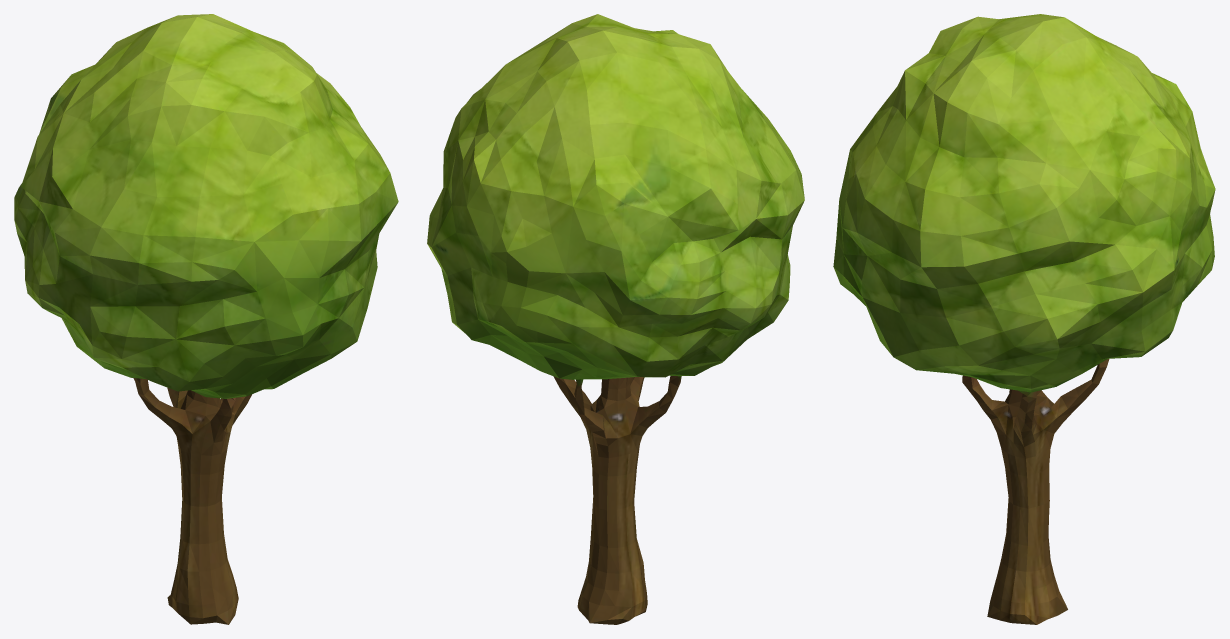
The model's file is Tree4.glb.
3 views of the same model, side by side, from view 1: azimuth 30°, elevation 25°; view 2: azimuth 150°, elevation 25°; view 3: azimuth 270°, elevation 25° (orthographic).
Parts seen in each view (by area): view 1: tripo_node_56f3d3fc-41d4-479d-a2f2-a57e836636cc; view 2: tripo_node_56f3d3fc-41d4-479d-a2f2-a57e836636cc; view 3: tripo_node_56f3d3fc-41d4-479d-a2f2-a57e836636cc.
Boxes of the visible parts, left/top/right/bottom form: tripo_node_56f3d3fc-41d4-479d-a2f2-a57e836636cc: left=14, top=14, right=398, bottom=624; tripo_node_56f3d3fc-41d4-479d-a2f2-a57e836636cc: left=427, top=14, right=804, bottom=624; tripo_node_56f3d3fc-41d4-479d-a2f2-a57e836636cc: left=833, top=14, right=1215, bottom=624.
Bounding box in the file's own units: 0.1505 × 0.2639 × 0.1539.
Materials: 1 (1 with a texture image).
